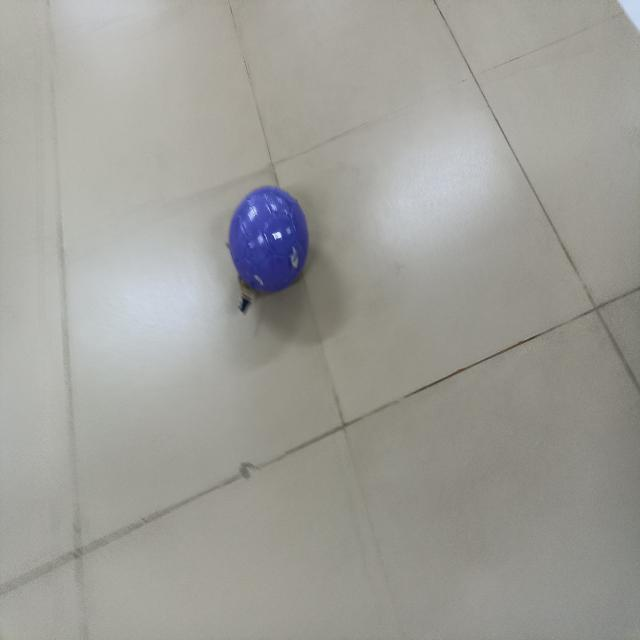purple_ball: (226, 181, 313, 307)
